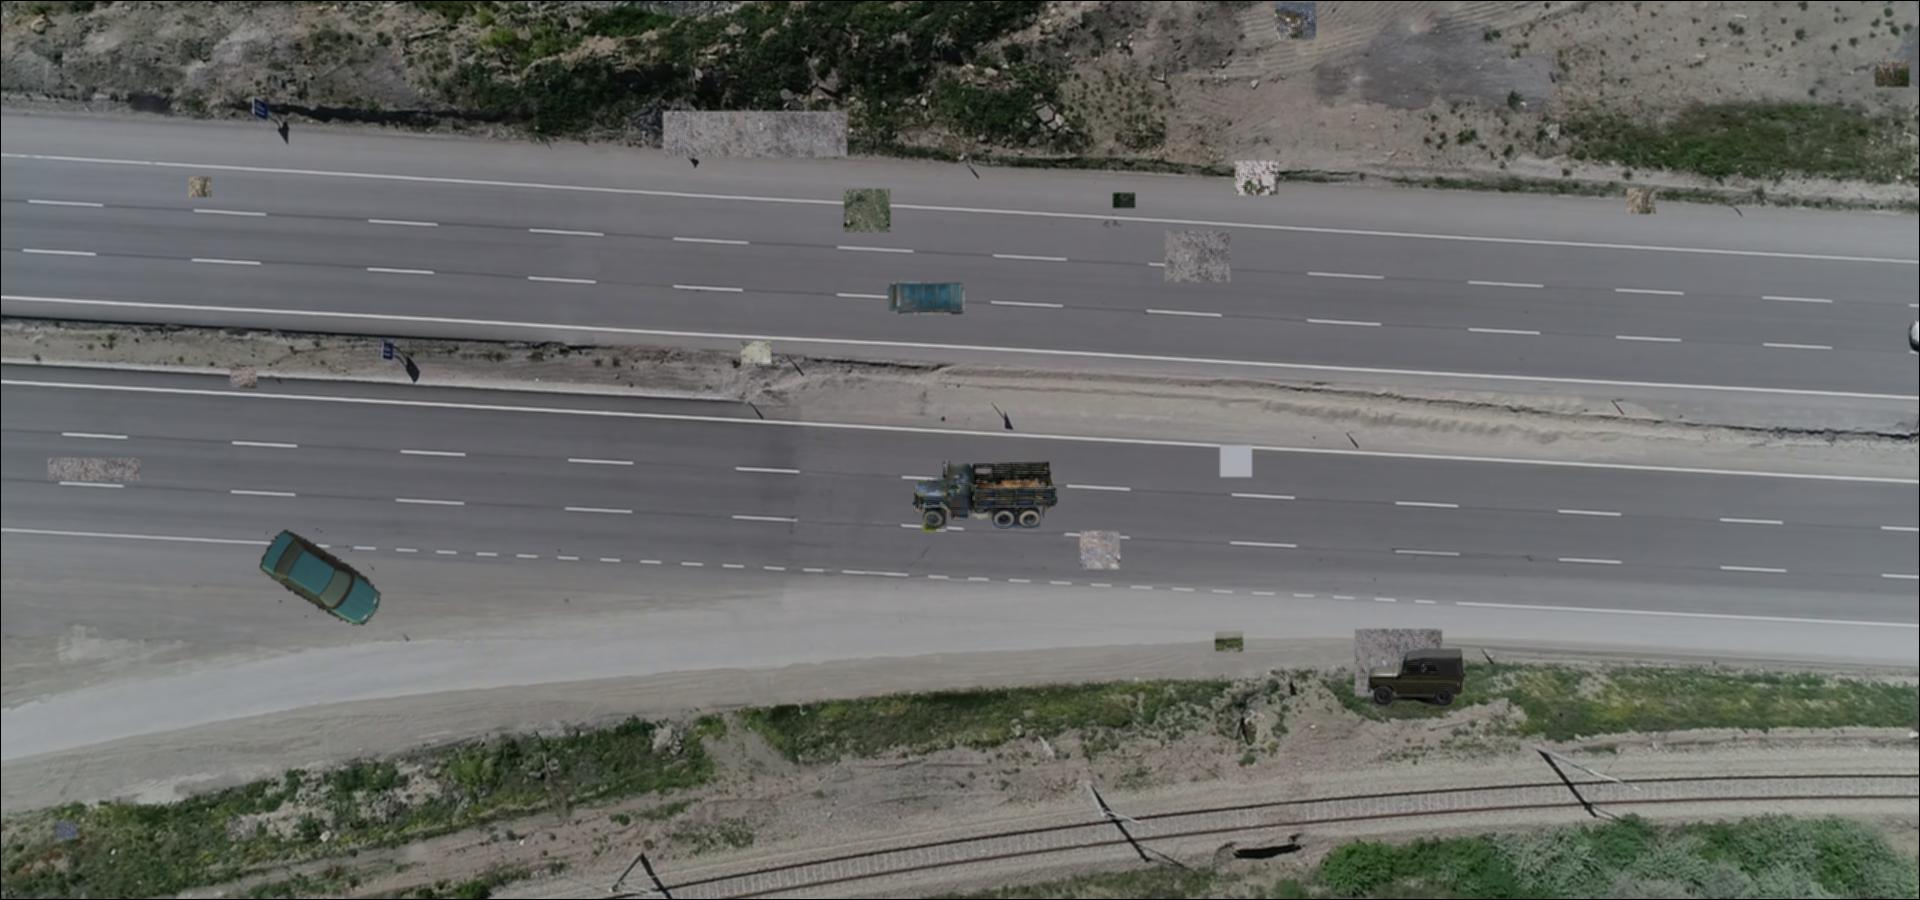arac: (911, 456, 1060, 536), (257, 528, 381, 624), (1367, 648, 1464, 707), (885, 279, 966, 316)
